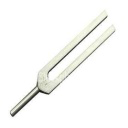fork: (11, 14, 128, 110)
